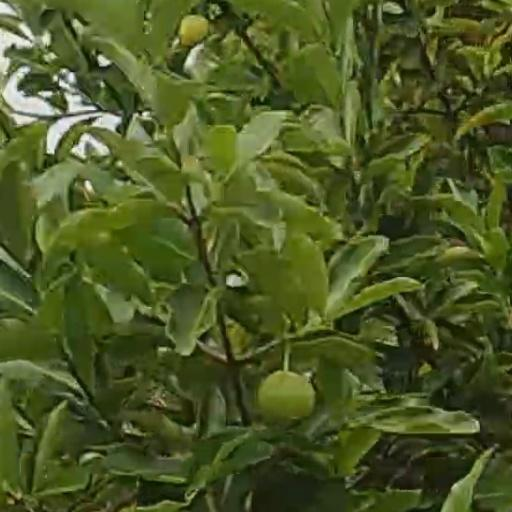acerola_verde: (260, 371, 317, 424)
